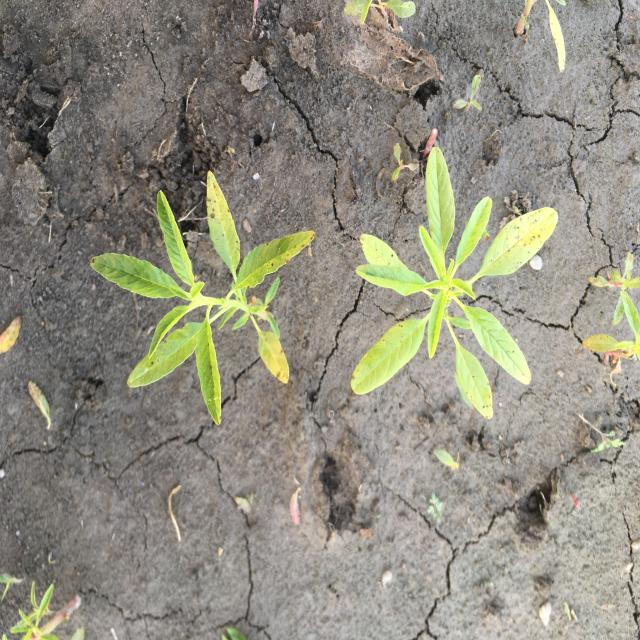Waterhemp: (88, 168, 316, 426), (349, 144, 559, 421), (579, 254, 638, 371)
